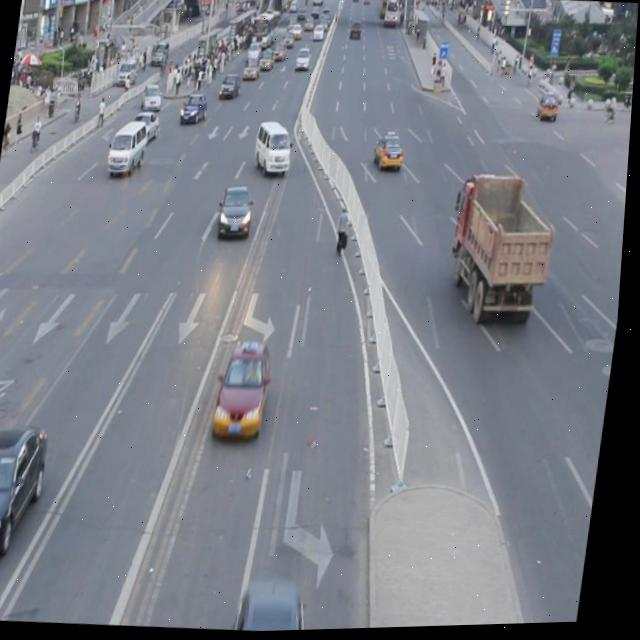bus: (443, 170, 561, 331)
car: (0, 419, 56, 564), (213, 339, 279, 443), (236, 573, 324, 634), (217, 183, 257, 242), (371, 133, 408, 173)
truck: (252, 119, 298, 180), (107, 118, 150, 178)
